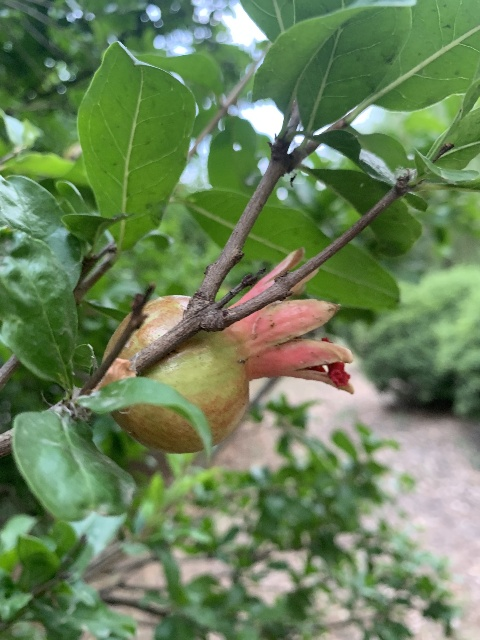early-fruit: (99, 248, 357, 452)
